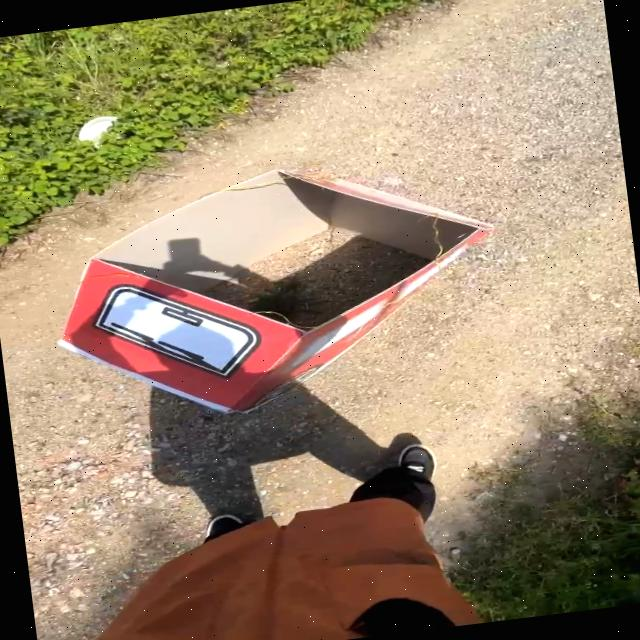red_car: (15, 119, 540, 458)
